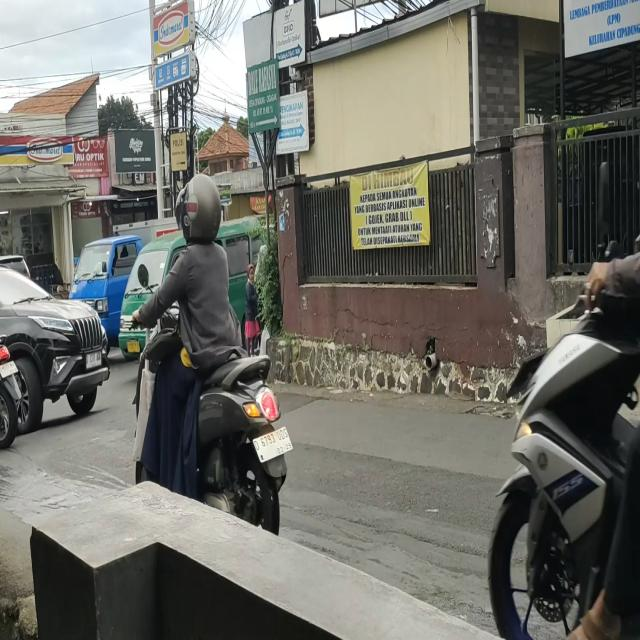helmet: (183, 174, 220, 237)
